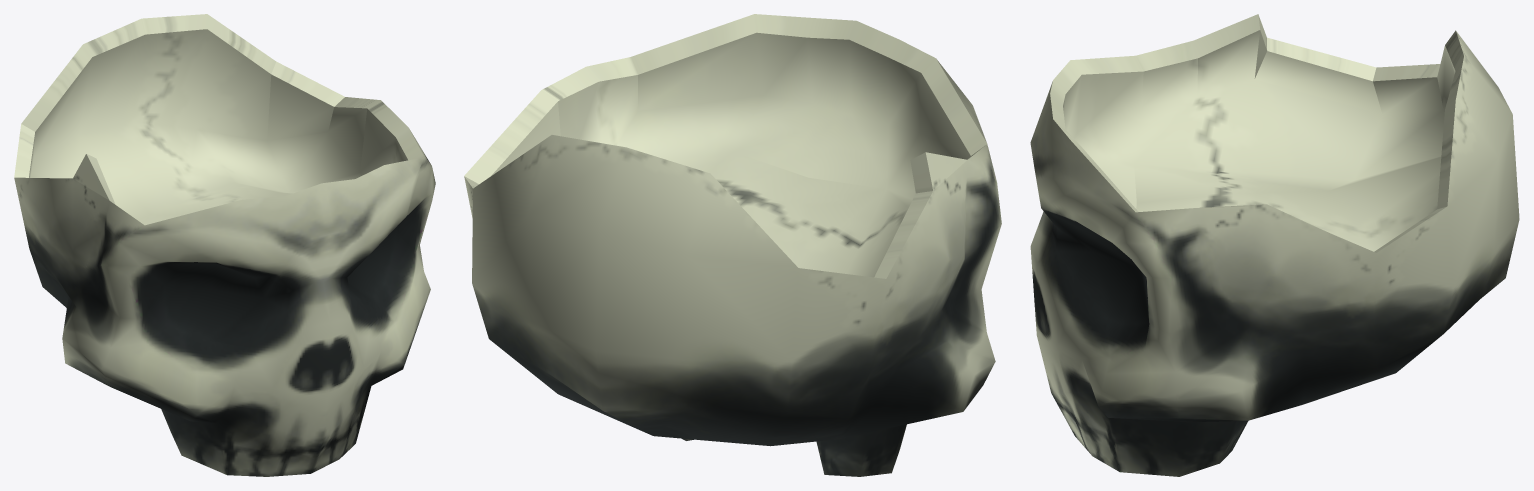
The model's file is BrokenSkull.obj.
3 renders of one model, left to right at view 1: azimuth 30°, elevation 25°; view 2: azimuth 150°, elevation 25°; view 3: azimuth 270°, elevation 25°, orthographic. The views are drawn at different scales.
Parts seen in each view (by area): view 1: BrokenSkull; view 2: BrokenSkull; view 3: BrokenSkull.
Part boxes in pixels (x1,y1,x2,y2): BrokenSkull: [14, 14, 435, 476]; BrokenSkull: [464, 14, 1001, 476]; BrokenSkull: [1030, 14, 1519, 476].
Bounding box in the file's own units: 0.7738 × 0.6955 × 0.8111.
Materials: 1 (1 with a texture image).
